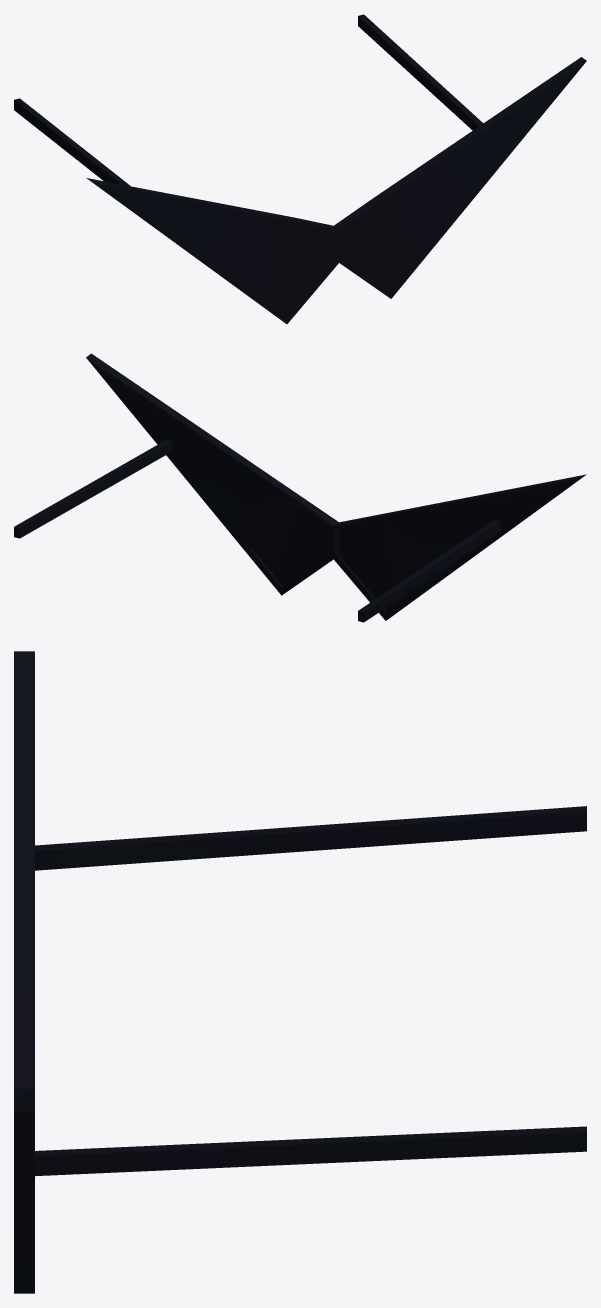
3 views of the same model, one above another, from view 1: azimuth 30°, elevation 25°; view 2: azimuth 150°, elevation 25°; view 3: azimuth 270°, elevation 25° (orthographic). The views are drawn at different scales.
Parts seen in each view (by area): view 1: trianglesunglasses; view 2: trianglesunglasses; view 3: trianglesunglasses.
Boxes of the visible parts, x1=… form: trianglesunglasses: x1=14, y1=14, x2=586, y2=324; trianglesunglasses: x1=14, y1=353, x2=586, y2=622; trianglesunglasses: x1=14, y1=651, x2=586, y2=1293.
Bounding box in the file's own units: 0.3528 × 0.1296 × 0.1851.
1 material, 1 textured.
